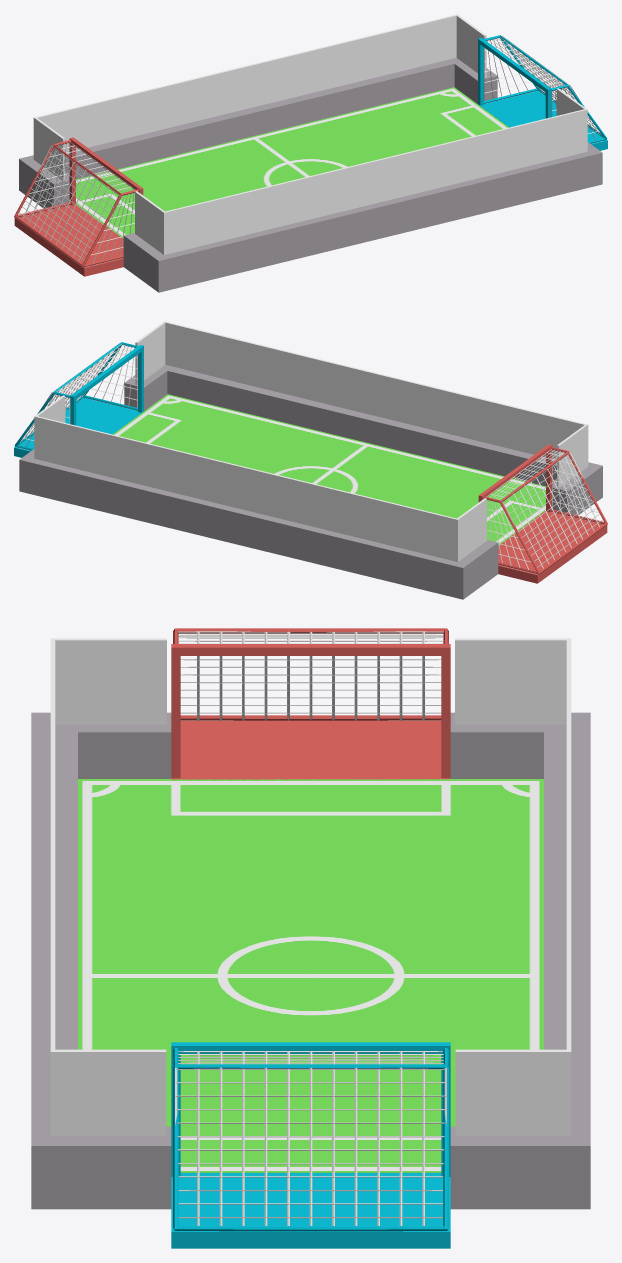
File: playground.fbx
3 renders of one model, top to bottom at view 1: azimuth 30°, elevation 25°; view 2: azimuth 150°, elevation 25°; view 3: azimuth 270°, elevation 25°, orthographic. The views are drawn at different scales.
Parts seen in each view (by area): view 1: Glass, Wall, Plane, RedGoalGround, RedGoalNet, RedGoalBones, BlueGoalBones, BlueGoalGround, BlueGoalNet; view 2: Glass, Wall, Plane, RedGoalGround, RedGoalNet, RedGoalBones, BlueGoalBones, BlueGoalGround, BlueGoalNet; view 3: Plane, Wall, Glass, BlueGoalGround, RedGoalGround, BlueGoalNet, RedGoalBones, BlueGoalBones, RedGoalNet.
Part boxes in pixels (box(x1,y1,x2,y2)): Glass: box(33, 14, 587, 254); Wall: box(19, 58, 602, 292); Plane: box(76, 87, 508, 238); RedGoalGround: box(14, 204, 123, 276); RedGoalNet: box(19, 142, 135, 266); RedGoalBones: box(14, 137, 143, 267); BlueGoalBones: box(478, 35, 607, 143); BlueGoalGround: box(478, 90, 607, 150); BlueGoalNet: box(484, 35, 602, 143); Glass: box(34, 321, 588, 561); Wall: box(19, 365, 602, 599); Plane: box(113, 394, 545, 545); RedGoalGround: box(498, 511, 607, 583); RedGoalNet: box(486, 449, 602, 573); RedGoalBones: box(478, 444, 607, 574); BlueGoalBones: box(14, 342, 143, 450); BlueGoalGround: box(14, 397, 143, 457); BlueGoalNet: box(19, 342, 137, 450); Plane: box(78, 779, 543, 1172); Wall: box(31, 712, 590, 1209); Glass: box(50, 638, 571, 1136); BlueGoalGround: box(171, 1173, 450, 1248); RedGoalGround: box(171, 720, 450, 779); BlueGoalNet: box(175, 1051, 446, 1225); RedGoalBones: box(171, 628, 450, 778); BlueGoalBones: box(171, 1042, 450, 1231); RedGoalNet: box(178, 631, 443, 720).
Size of the model in its own units: 2605 by 350 by 1200.
